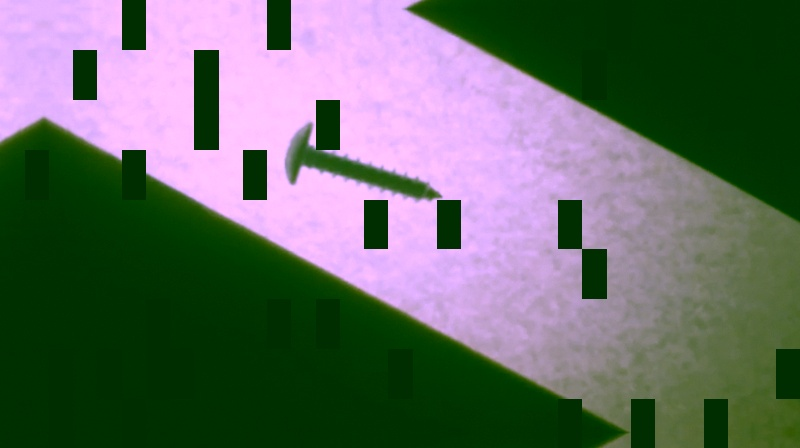S003: (280, 118, 448, 205)
